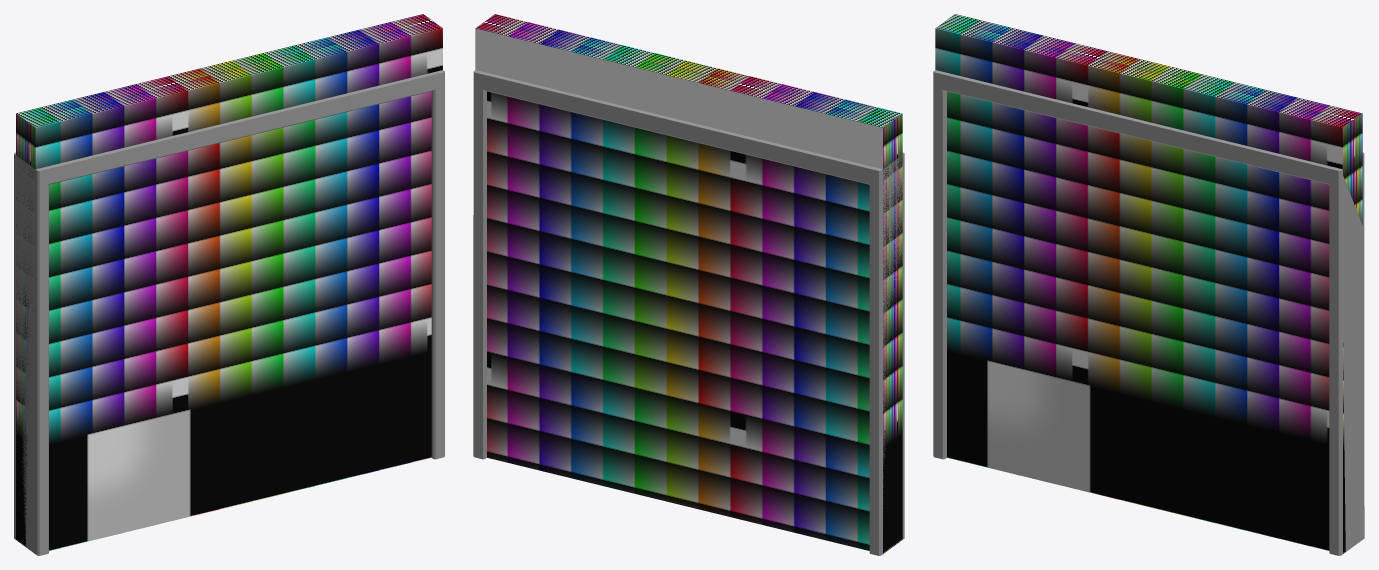
File: interiorGlassWall_line_3_whit.fbx
The picture shows the model from 3 angles, left to right: view 1: azimuth 30°, elevation 25°; view 2: azimuth 150°, elevation 25°; view 3: azimuth 330°, elevation 25°; orthographic projection.
Parts seen in each view (by area): view 1: trigger, wall; view 2: trigger, wall; view 3: trigger, wall.
Part boxes in pixels (box(x1,y1,x2,y2)): trigger: box(16, 14, 442, 550); wall: box(14, 70, 444, 555); trigger: box(476, 14, 902, 553); wall: box(473, 28, 904, 555); trigger: box(935, 14, 1362, 553); wall: box(933, 70, 1364, 555).
Size of what is drawn, in the model's own units: 300 by 300 by 31.96.
